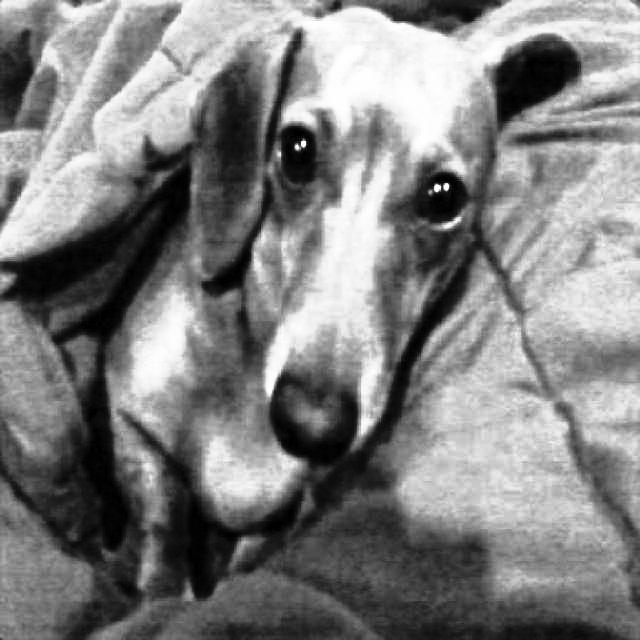Dog: (106, 5, 589, 619)
